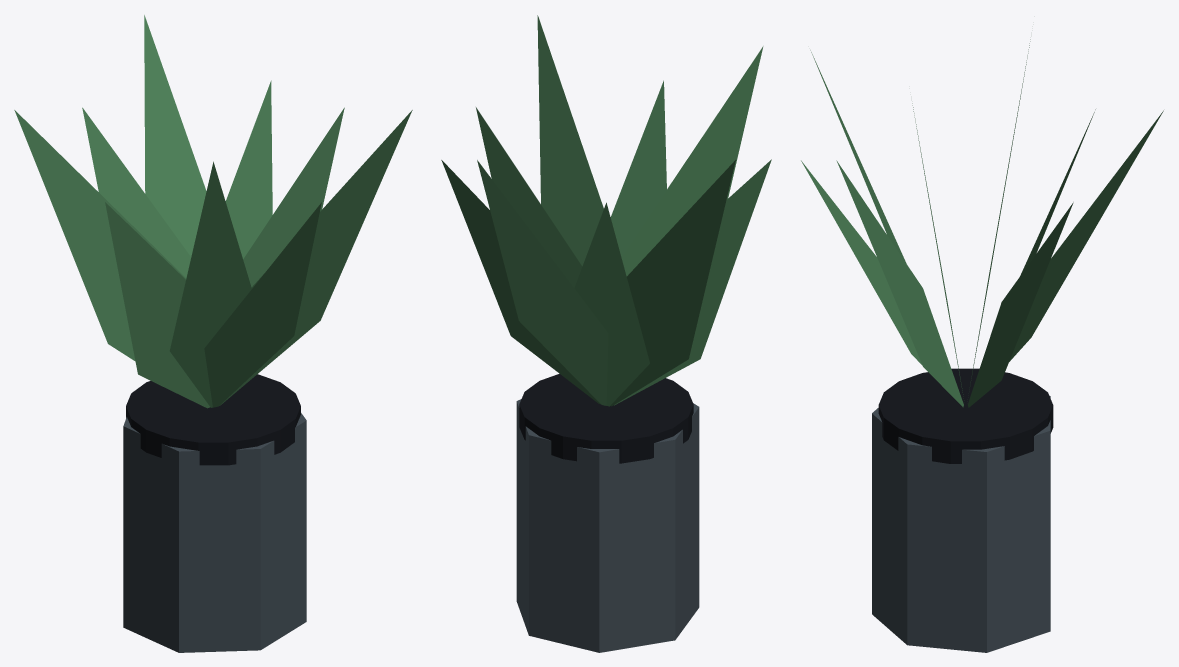
Rendered from 36_PS_MinimalCornerPlanter.fbx.
The picture shows the model from 3 angles, left to right: view 1: azimuth 30°, elevation 25°; view 2: azimuth 150°, elevation 25°; view 3: azimuth 270°, elevation 25°; orthographic projection.
Visible parts, largest first — view 1: PS_MinimalCornerPlanter; view 2: PS_MinimalCornerPlanter; view 3: PS_MinimalCornerPlanter.
Boxes of the visible parts, x1,y1,x2,y2 form: PS_MinimalCornerPlanter: (14,15,412,652); PS_MinimalCornerPlanter: (441,15,771,652); PS_MinimalCornerPlanter: (801,39,1163,652).
Size of the model in its own units: 103 by 174 by 109.
